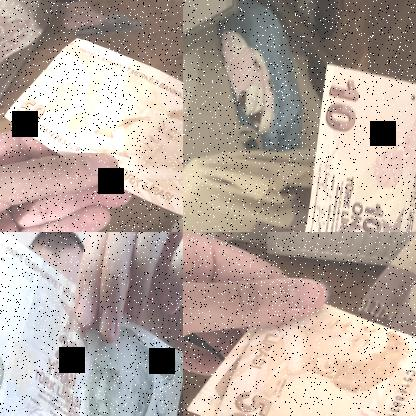5 TL: (2, 35, 182, 224)
